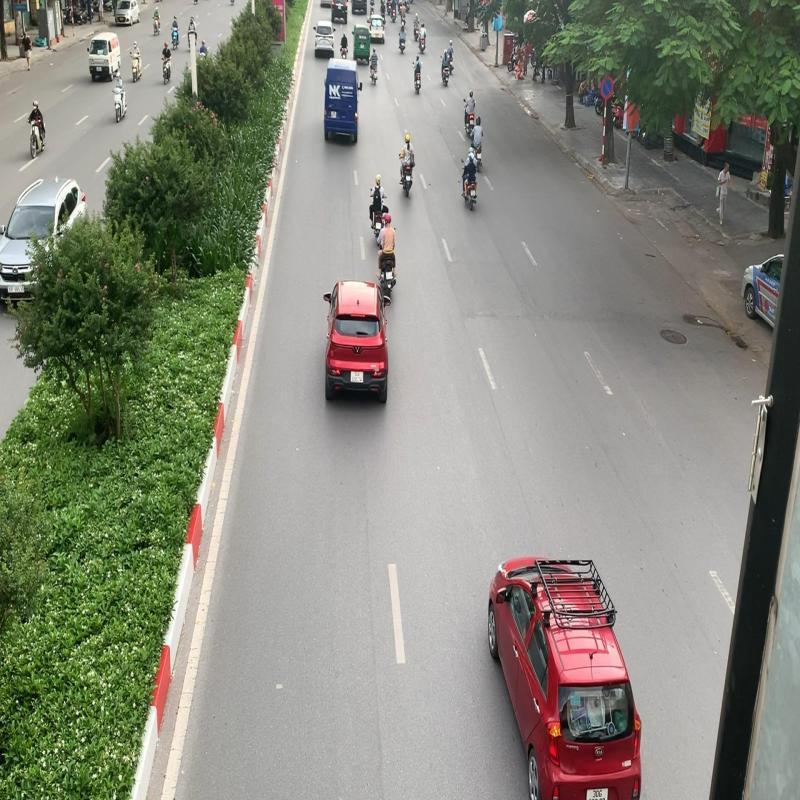helmet: (384, 213, 391, 226)
licenseplate: (386, 270, 392, 280)
motorcyclist: (376, 212, 397, 301)
